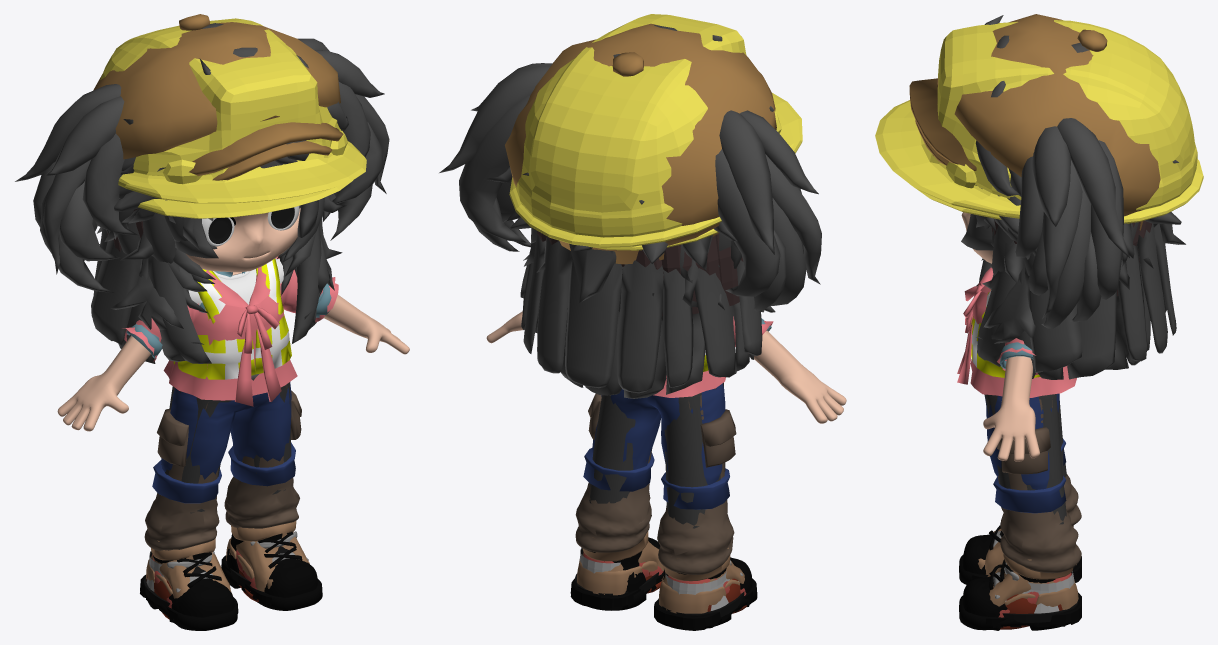
File: Boy_Cosmetics2.fbx
3 views of the same model, side by side, from view 1: azimuth 30°, elevation 25°; view 2: azimuth 150°, elevation 25°; view 3: azimuth 270°, elevation 25° (orthographic). The views are drawn at different scales.
Parts seen in each view (by area): view 1: Accesories_Hard Hat_Large, Hair_4, Accesories_Cap_Large, Hair_5, Bottom_RolledUp_Pants, Bottom_CargoPants, Top_Blouse, Shoes_Boots_2, Shoes_Boots_1, Hair_6, Body, Accesories_Vest (+10 smaller); view 2: Accesories_Hard Hat_Large, Hair_5, Hair_4, Accesories_Cap_Large, Bottom_CargoPants, Base_Pants, Shoes_Boots_1, Bottom_RolledUp_Pants, Hair_6, Body, Base_Hair.Back, Base_SHOE (+3 smaller); view 3: Accesories_Hard Hat_Large, Accesories_Cap_Large, Hair_4, Hair_5, Bottom_CargoPants, Hair_6, Shoes_Boots_1, Body, Shoes_Boots_2, Top_Blouse, Bottom_RolledUp_Pants, Base_Pants (+4 smaller).
Boxes of the visible parts, left/top/right/bottom form: Accesories_Hard Hat_Large: left=100, top=18, right=366, bottom=203; Hair_4: left=15, top=38, right=389, bottom=293; Accesories_Cap_Large: left=93, top=14, right=343, bottom=176; Hair_5: left=91, top=200, right=323, bottom=363; Bottom_RolledUp_Pants: left=152, top=366, right=295, bottom=503; Bottom_CargoPants: left=144, top=384, right=301, bottom=550; Top_Blouse: left=122, top=256, right=338, bottom=406; Shoes_Boots_2: left=148, top=531, right=322, bottom=630; Shoes_Boots_1: left=140, top=521, right=318, bottom=621; Hair_6: left=97, top=140, right=346, bottom=344; Body: left=57, top=272, right=409, bottom=431; Accesories_Vest: left=173, top=258, right=291, bottom=379; Accesories_Hard Hat_Large: left=509, top=14, right=802, bottom=247; Hair_5: left=520, top=234, right=762, bottom=398; Hair_4: left=439, top=63, right=821, bottom=311; Accesories_Cap_Large: left=505, top=23, right=776, bottom=264; Bottom_CargoPants: left=575, top=393, right=736, bottom=574; Base_Pants: left=589, top=382, right=725, bottom=528; Shoes_Boots_1: left=570, top=531, right=753, bottom=630; Bottom_RolledUp_Pants: left=583, top=383, right=729, bottom=509; Hair_6: left=484, top=166, right=775, bottom=320; Body: left=486, top=311, right=846, bottom=423; Base_Hair.Back: left=537, top=231, right=743, bottom=315; Base_SHOE: left=574, top=548, right=744, bottom=617; Accesories_Hard Hat_Large: left=875, top=20, right=1203, bottom=223; Accesories_Cap_Large: left=909, top=14, right=1160, bottom=230; Hair_4: left=984, top=118, right=1138, bottom=328; Hair_5: left=961, top=214, right=1176, bottom=379; Bottom_CargoPants: left=988, top=398, right=1081, bottom=573; Hair_6: left=975, top=160, right=1185, bottom=343; Shoes_Boots_1: left=962, top=523, right=1081, bottom=627; Body: left=983, top=356, right=1039, bottom=461; Shoes_Boots_2: left=959, top=531, right=1070, bottom=630; Top_Blouse: left=957, top=267, right=1076, bottom=397; Bottom_RolledUp_Pants: left=984, top=393, right=1066, bottom=513; Base_Pants: left=984, top=394, right=1066, bottom=524.
Bounding box in the file's own units: 1073 × 1679 × 884.
